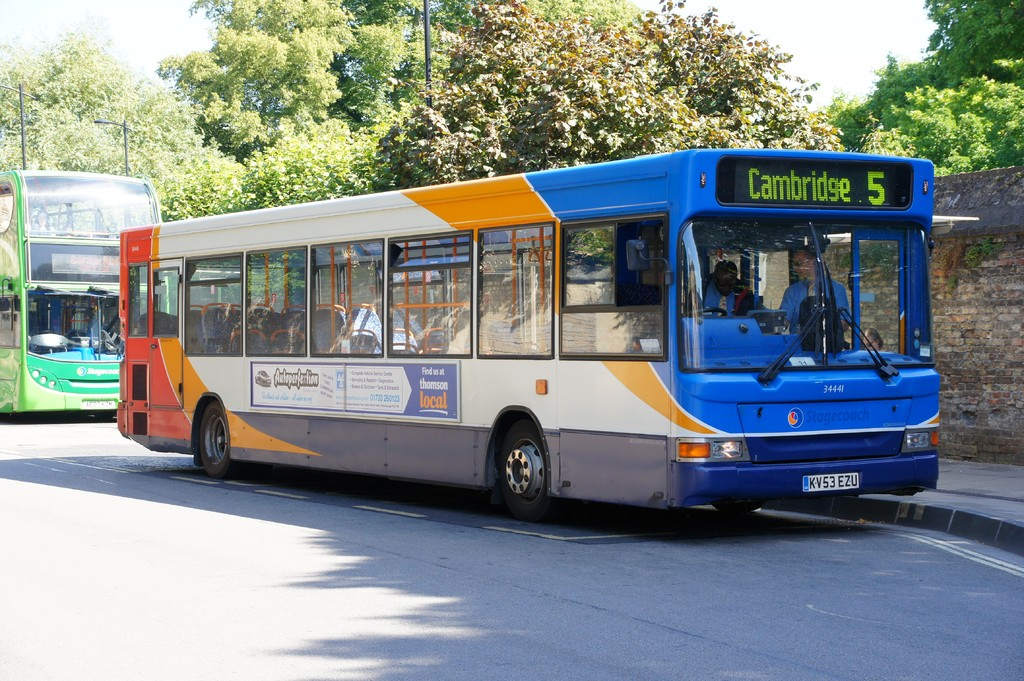Bus: (115, 154, 981, 522), (0, 170, 160, 410)
